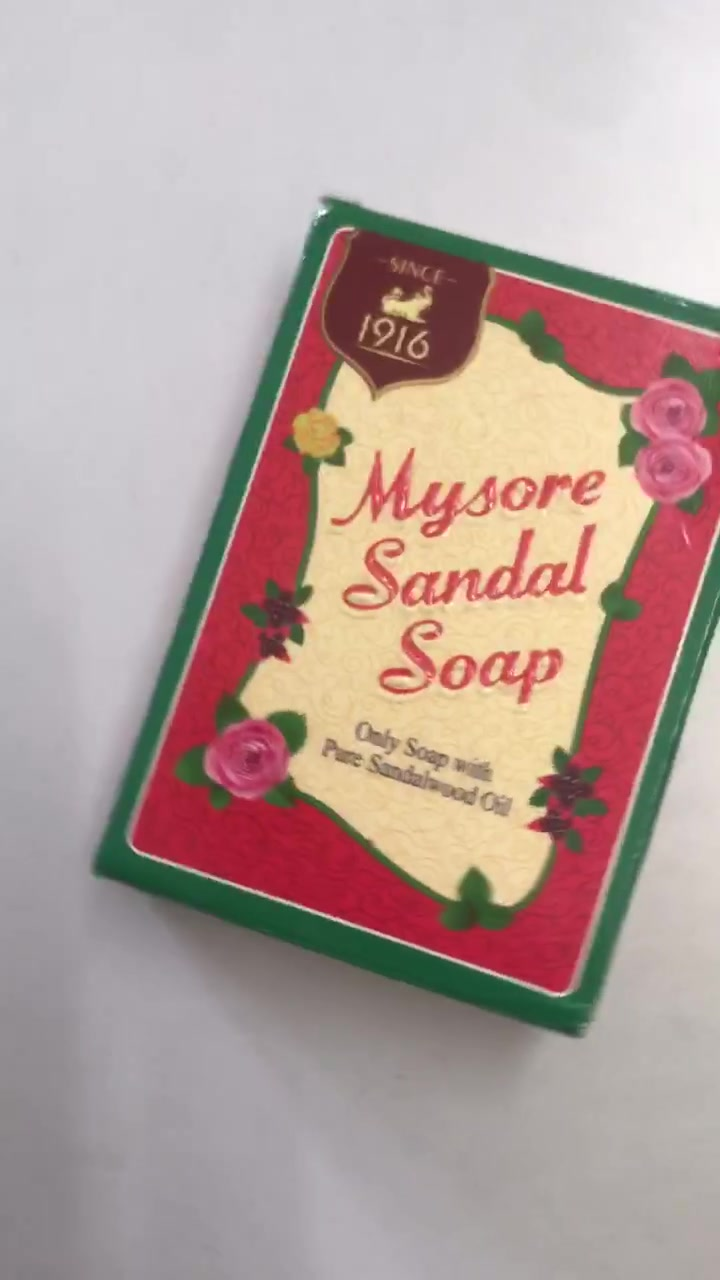mysore sandal soap: (88, 200, 709, 1050)
